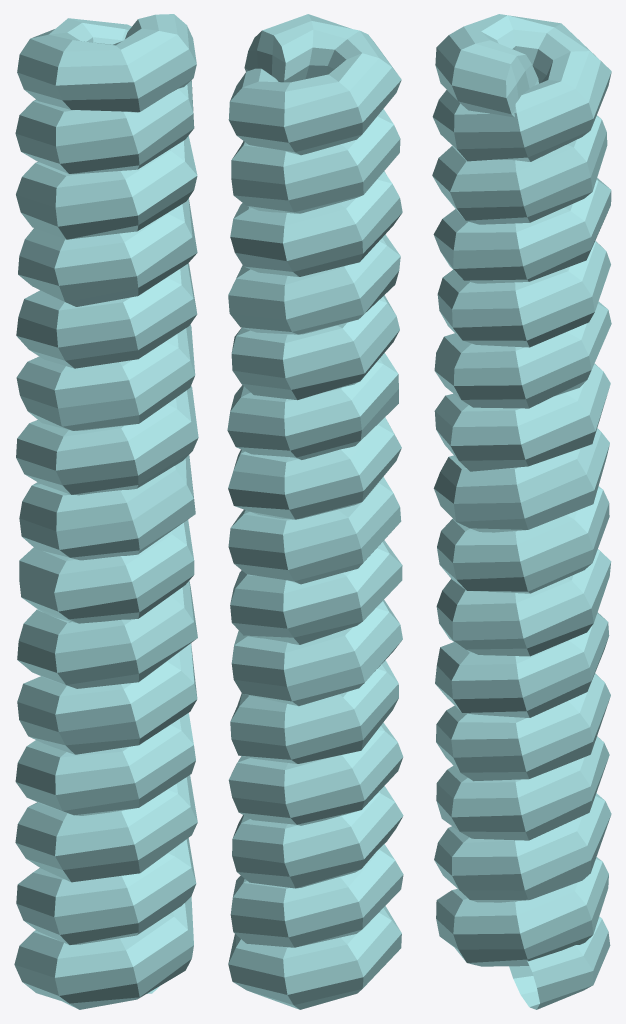
File: Slupek.fbx
3 views of the same model, side by side, from view 1: azimuth 30°, elevation 25°; view 2: azimuth 150°, elevation 25°; view 3: azimuth 270°, elevation 25° (orthographic). The views are drawn at different scales.
Visible parts, largest first — view 1: Slupek; view 2: Slupek; view 3: Slupek.
Part boxes in pixels (bbox=[...]): Slupek: bbox=[14, 14, 198, 1009]; Slupek: bbox=[227, 14, 403, 1009]; Slupek: bbox=[432, 14, 611, 1009].
Size of the model in its own units: 78.67 by 472 by 80.67.
